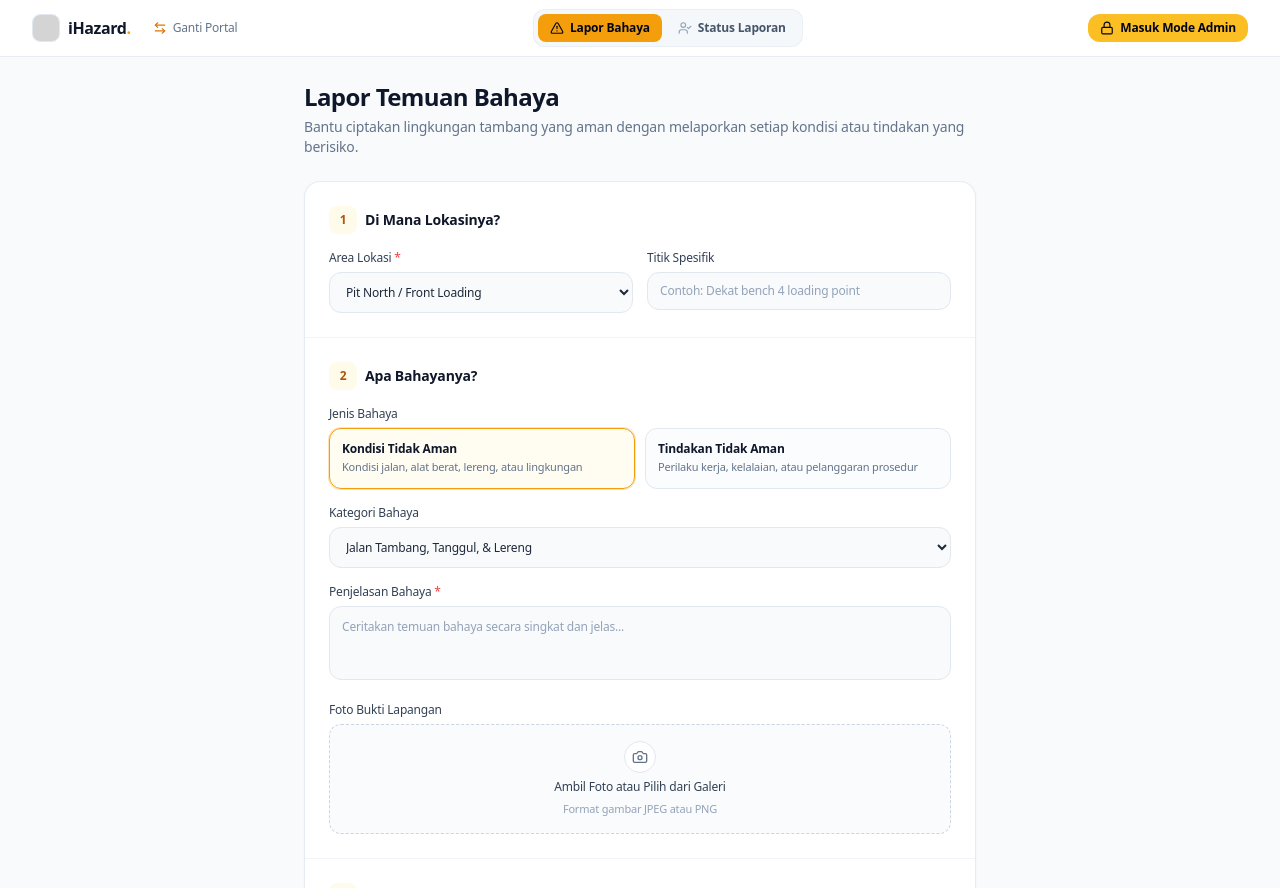
Test: Main Application Navigation & Role Separation › allows returning to portal selector via Ganti Portal button
What coordinates should you click on to do the following:
click the button "Ganti Portal"
I would click on:
 (195, 28)
Its box is x1=143 y1=16 x2=248 y2=40.
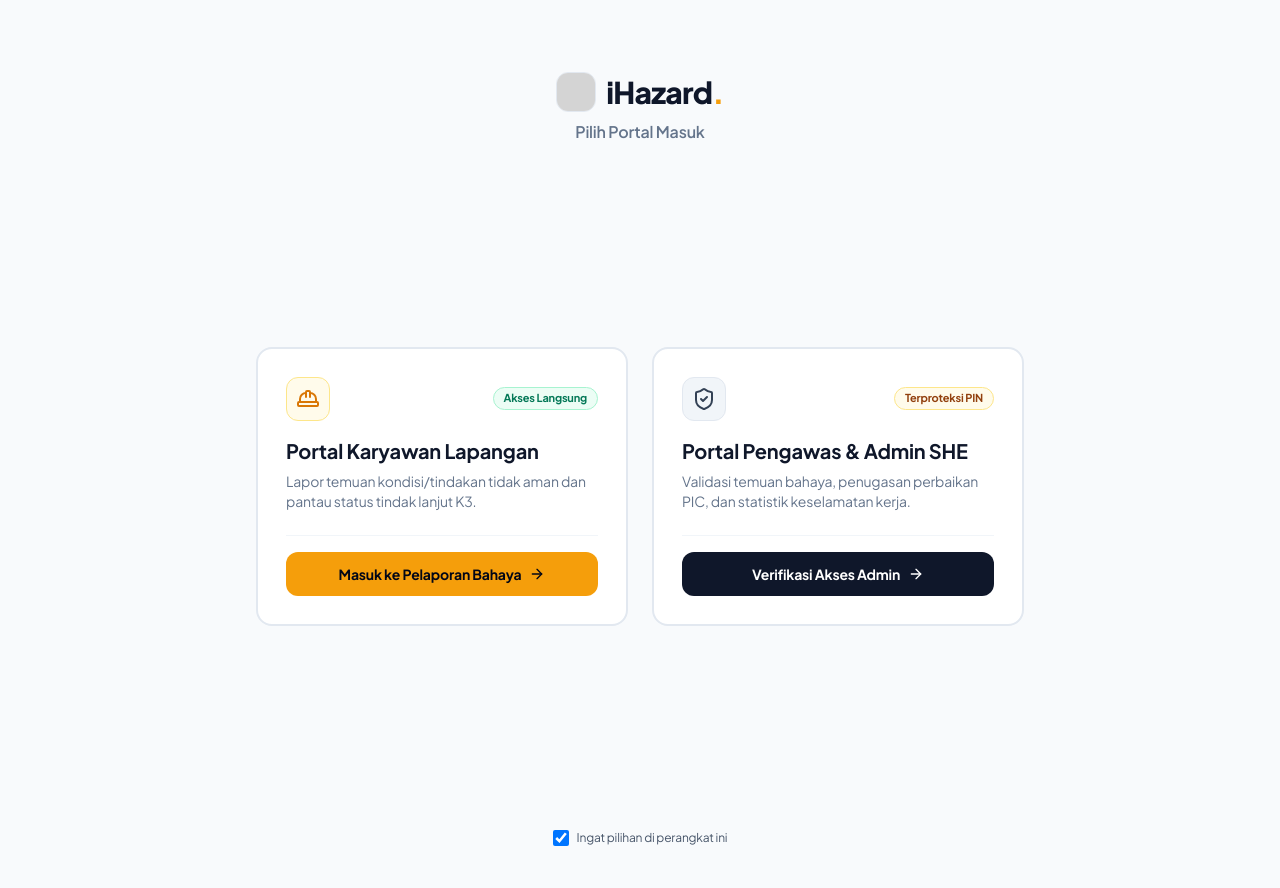
expect the heading "Portal Karyawan Lapangan" is shown: met, box x1=286 y1=438 x2=539 y2=462
expect the heading "Portal Pengawas & Admin SHE" is shown: met, box x1=682 y1=436 x2=994 y2=464
